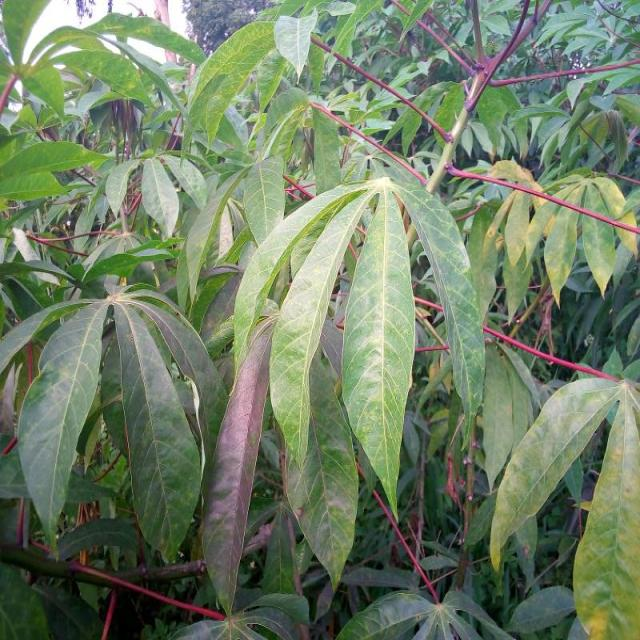cassava leaf: (341, 179, 415, 523)
